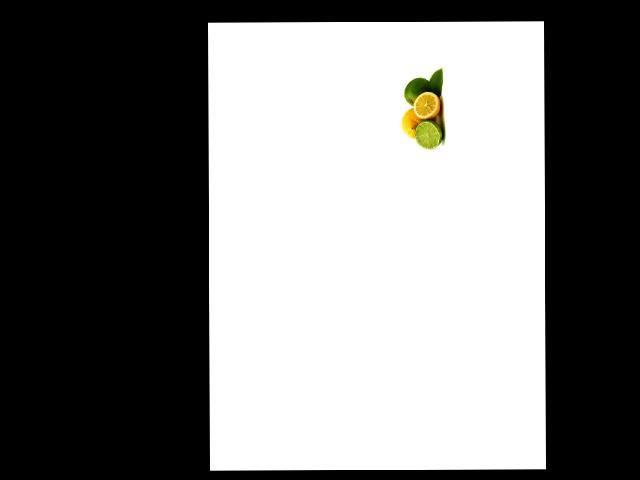lemon: (399, 108, 424, 139)
